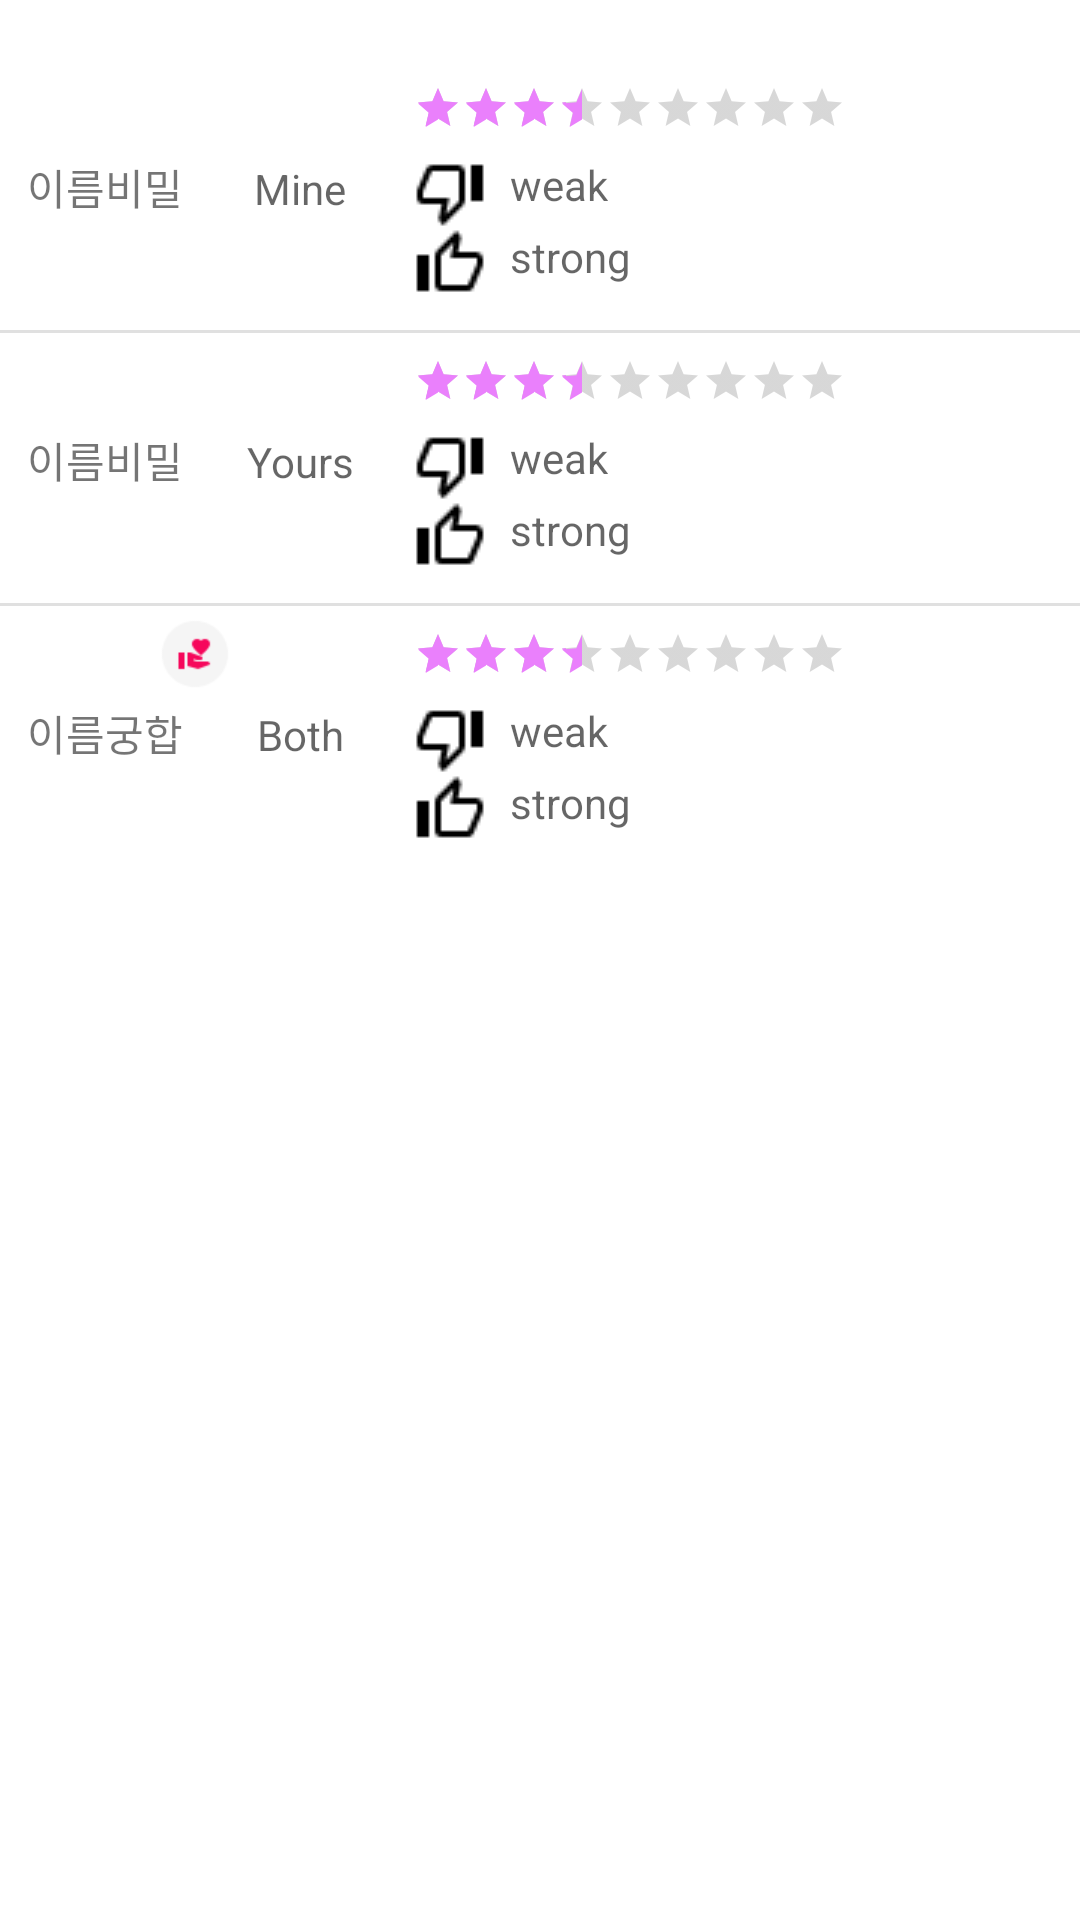

Point at icon controls on the screen. Image size 1080w x 1920h, points as (x,y).
bad: (450,195), (450,468), (450,741)
good: (450,261), (450,534), (450,807)
